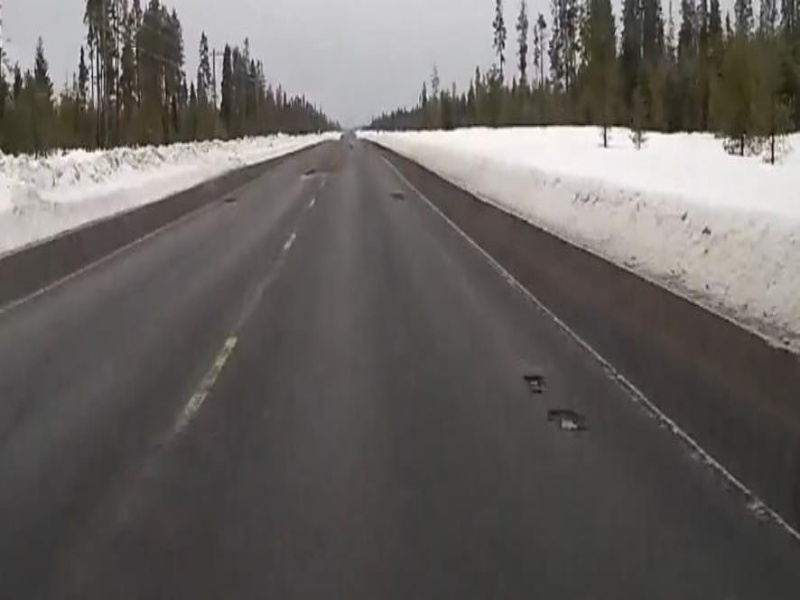pothole: (546, 404, 588, 438), (519, 370, 551, 400)
